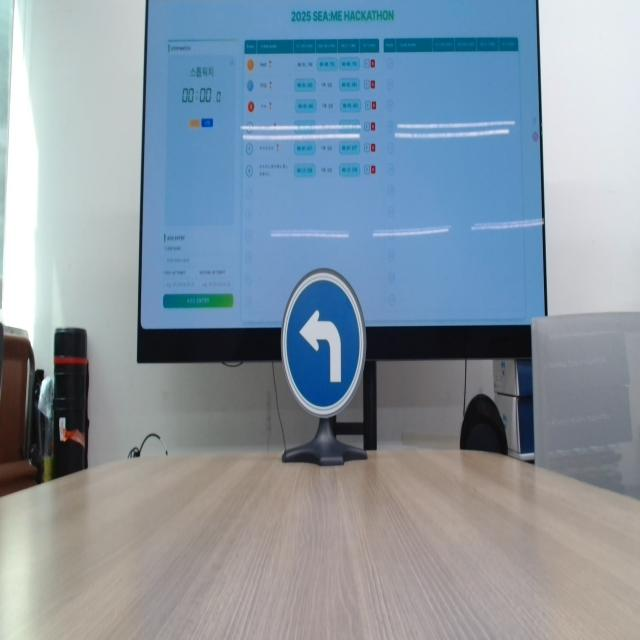left_direction: (275, 258, 374, 427)
